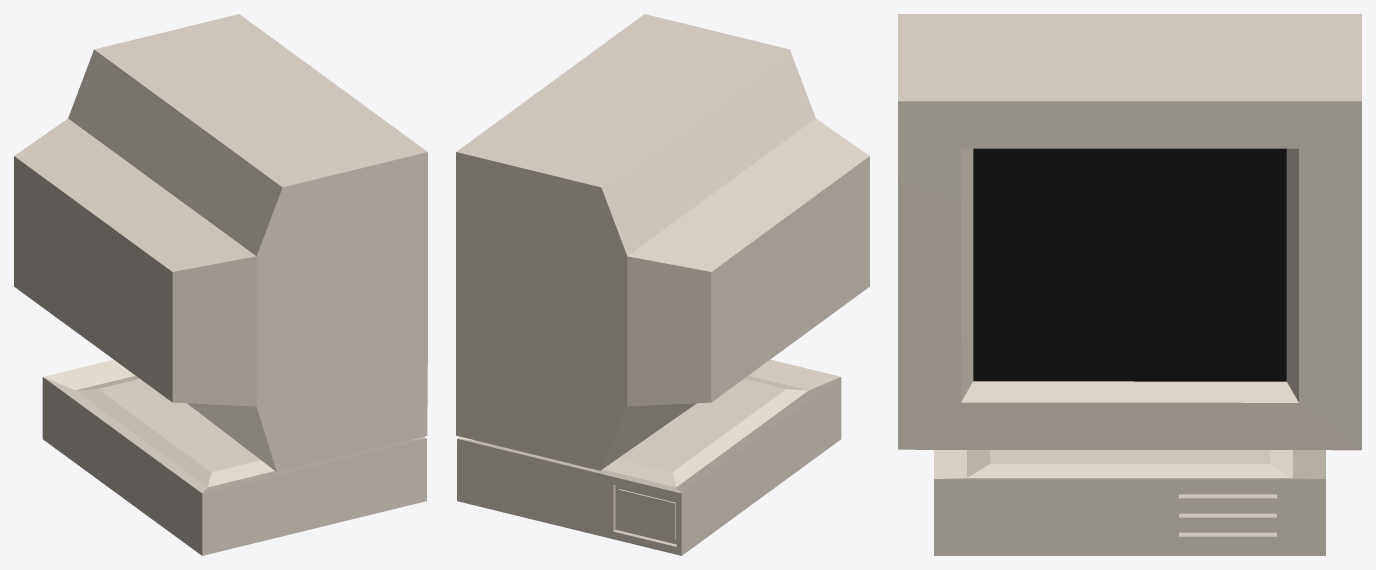
File: combuter.glb
3 views of the same model, side by side, from view 1: azimuth 30°, elevation 25°; view 2: azimuth 150°, elevation 25°; view 3: azimuth 270°, elevation 25° (orthographic). The views are drawn at different scales.
Visible parts, largest first — view 1: computerscreen, Cube; view 2: computerscreen, Cube; view 3: computerscreen, Cube.
Boxes of the visible parts, x1,y1,x2,y2 form: computerscreen: (14,14,427,472); Cube: (42,359,426,555); computerscreen: (456,14,869,470); Cube: (457,359,841,555); computerscreen: (898,14,1361,450); Cube: (934,450,1325,555).
Size of the model in its own units: 2.4 by 3.29 by 3.09.
